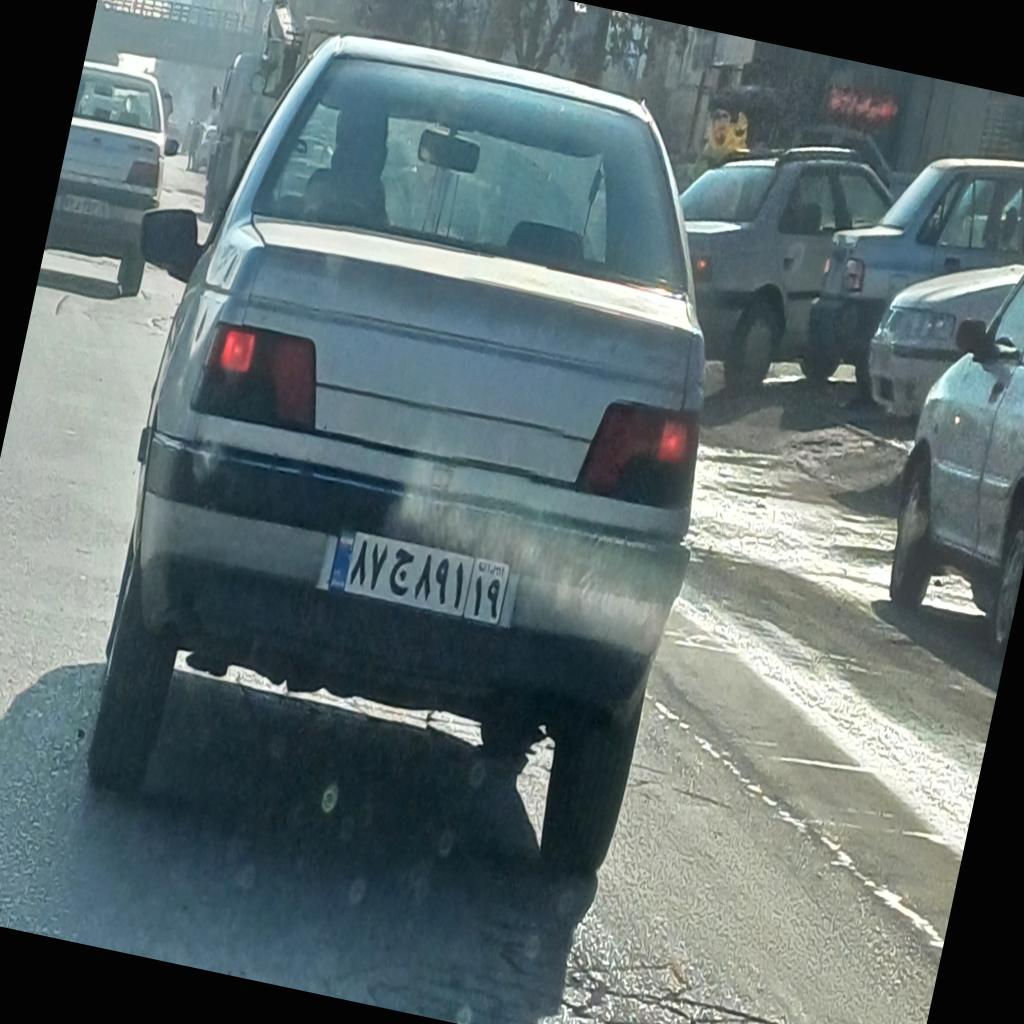Plates: (326, 525, 512, 627)
